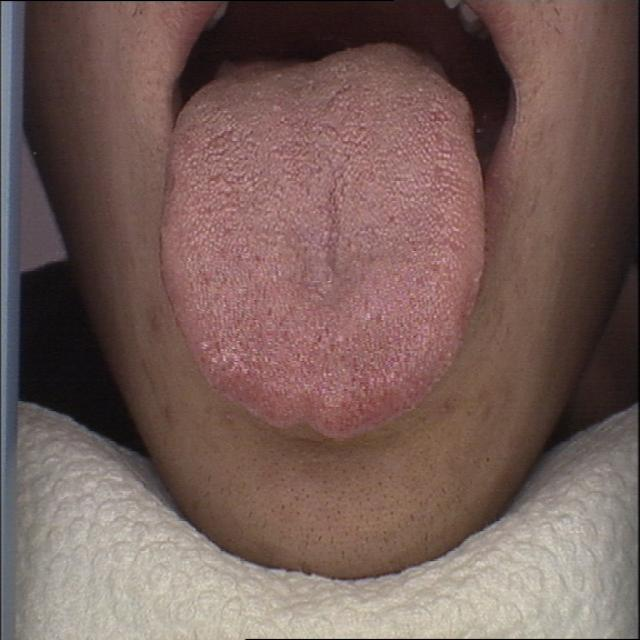tongue: (155, 33, 498, 446)
